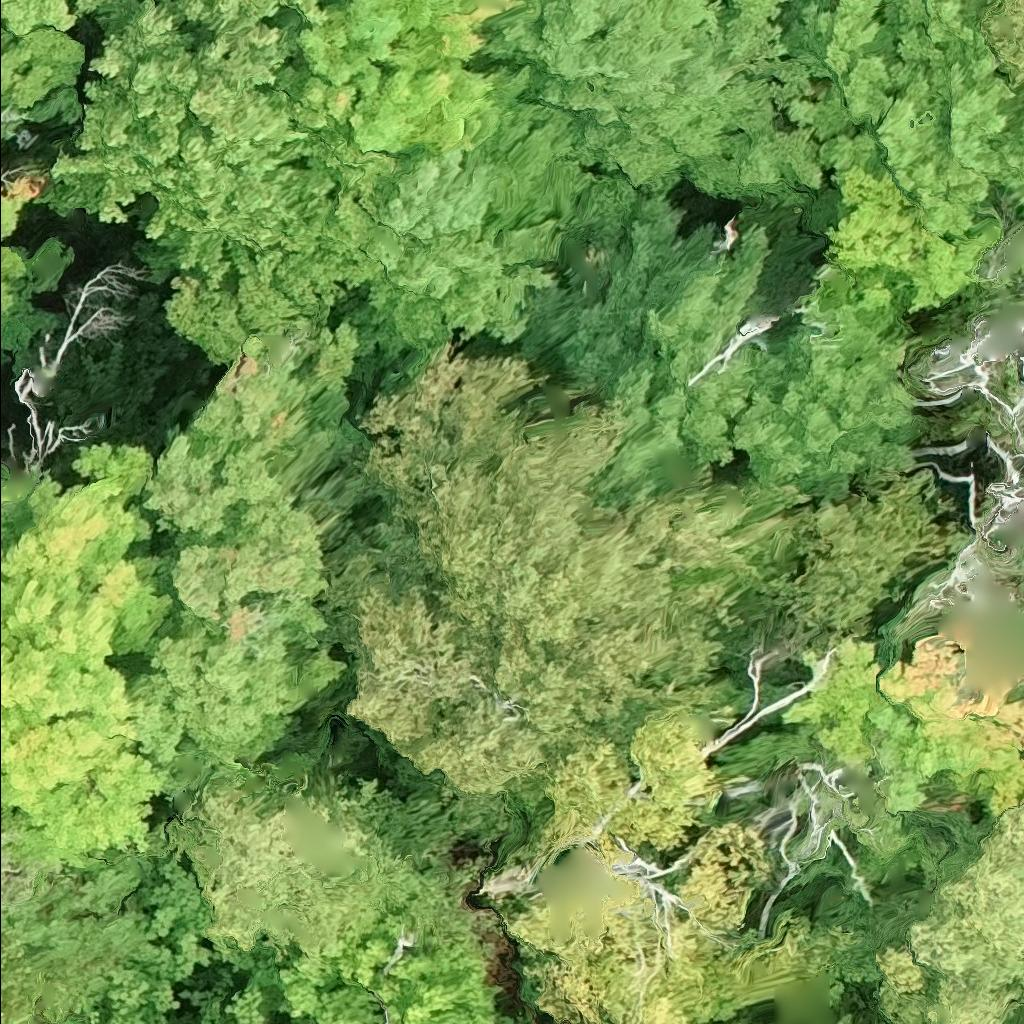crown: (0, 444, 179, 867), (0, 23, 86, 147), (0, 824, 41, 913), (0, 169, 44, 238), (0, 0, 80, 34), (0, 246, 27, 320)
